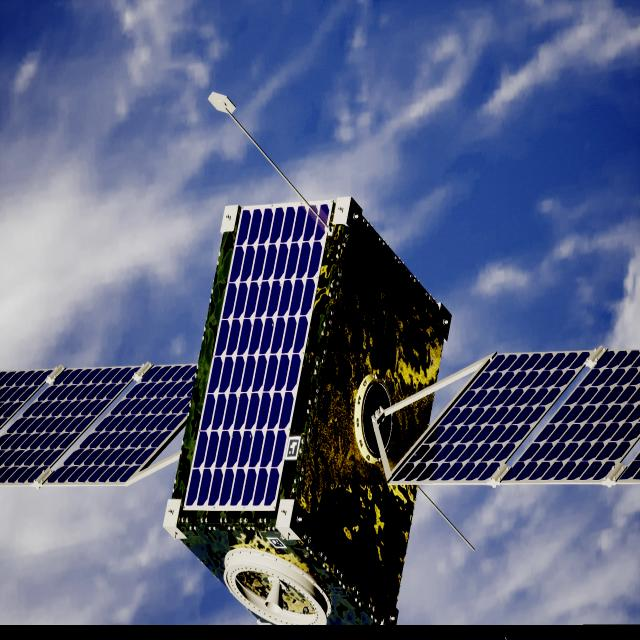medium_debris: (0, 198, 640, 627)
